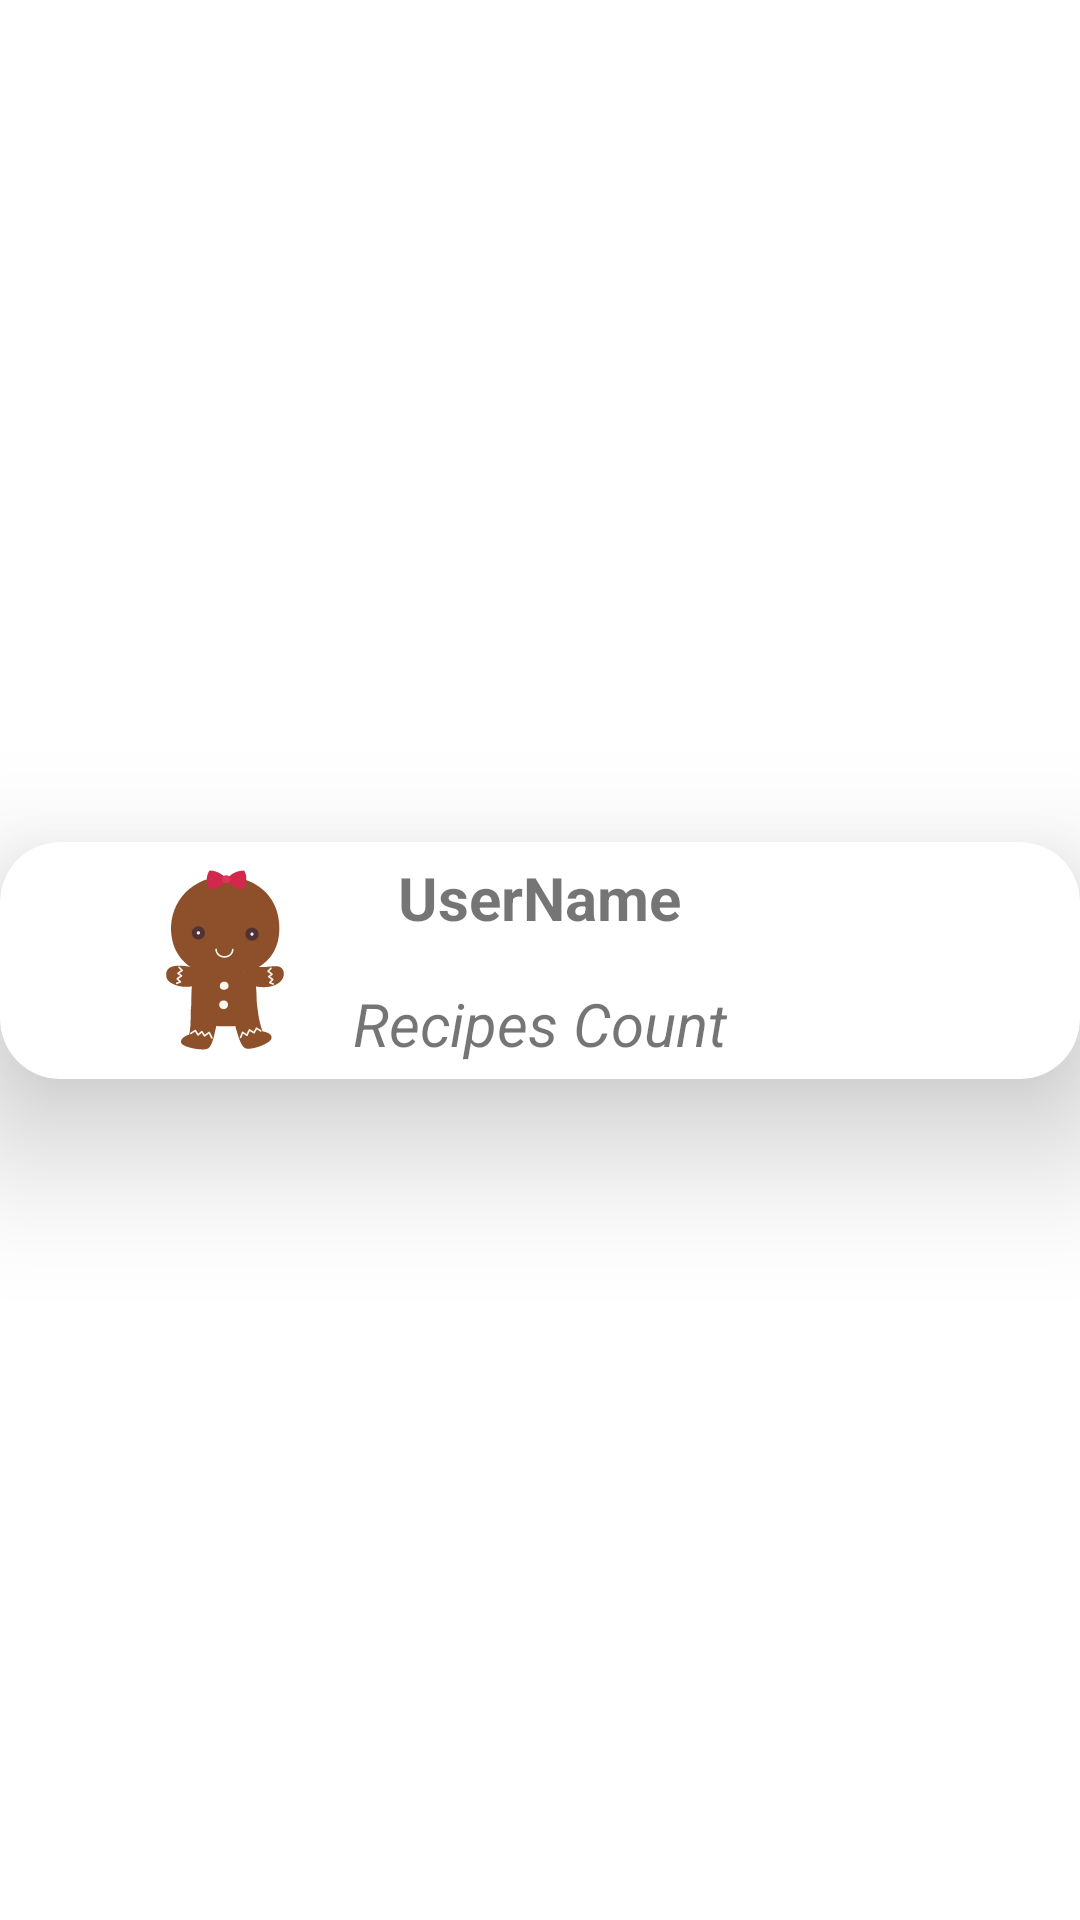

Icon click points for this 1080 × 1920 phone screenshot, format point (x, y):
gingerbread man: point (225, 960)
